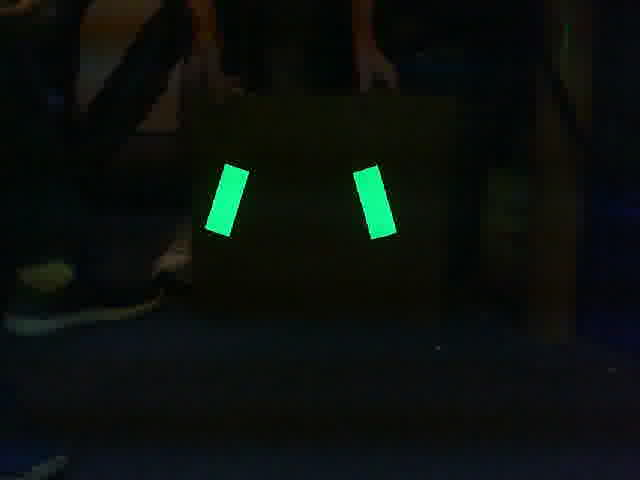target: (204, 162, 398, 242)
